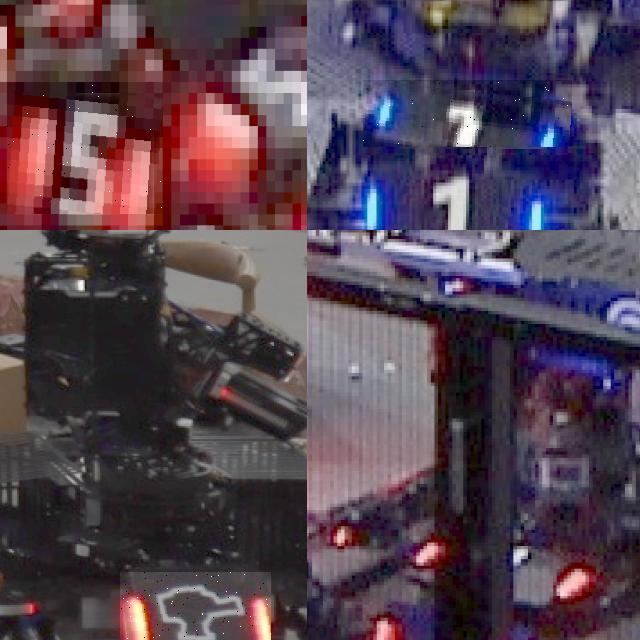B1: (363, 80, 572, 147), (344, 170, 554, 230)
R5: (7, 82, 163, 214)
Rs: (120, 572, 271, 640)
